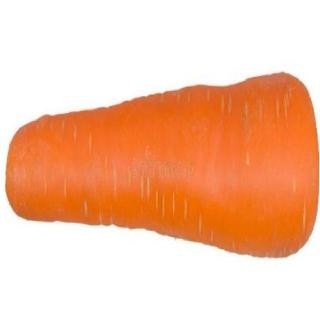carrot: (2, 64, 320, 270)
